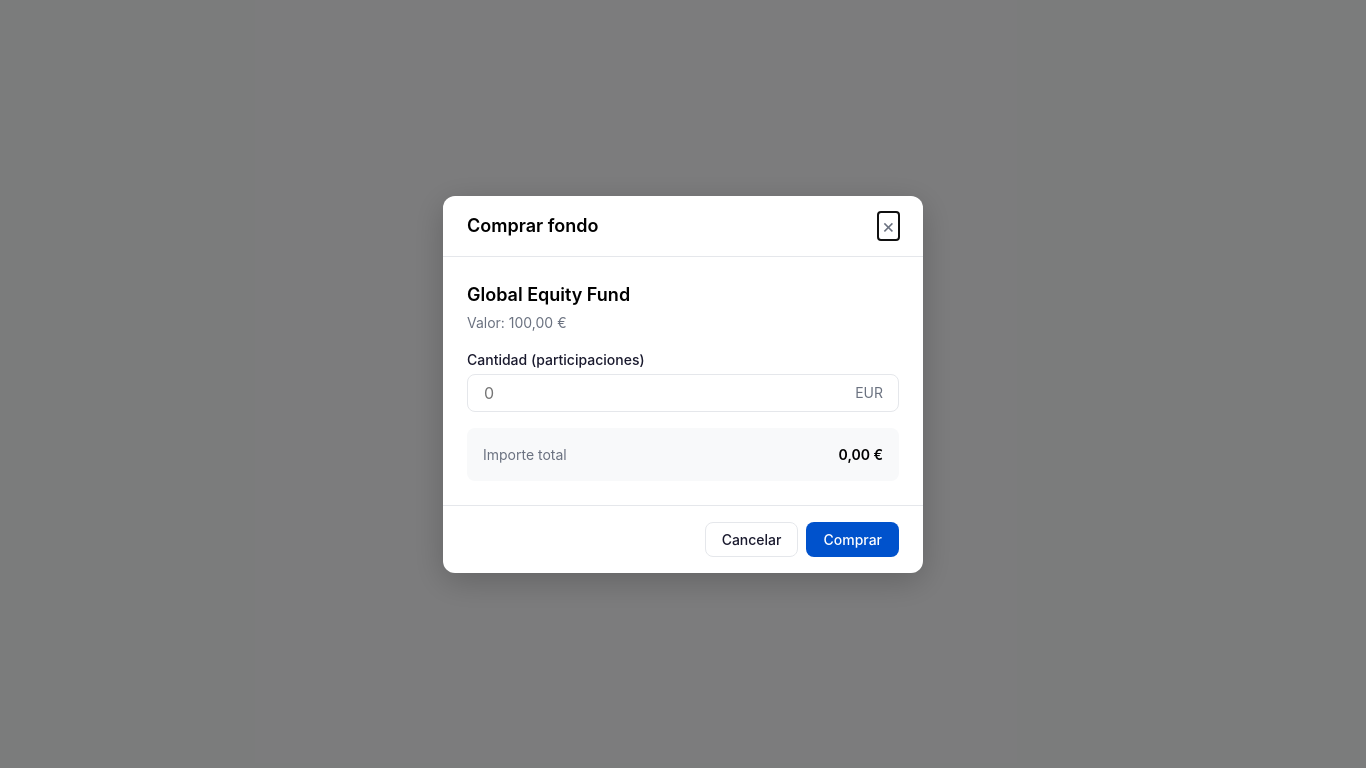
BuyFundModal › shows validation error for empty quantity on submit
This screenshot has width=1366, height=768.
What coordinates should you click on to do the following:
click the button "Comprar"
I would click on:
 (853, 539)
Its box is [806,522,899,556].
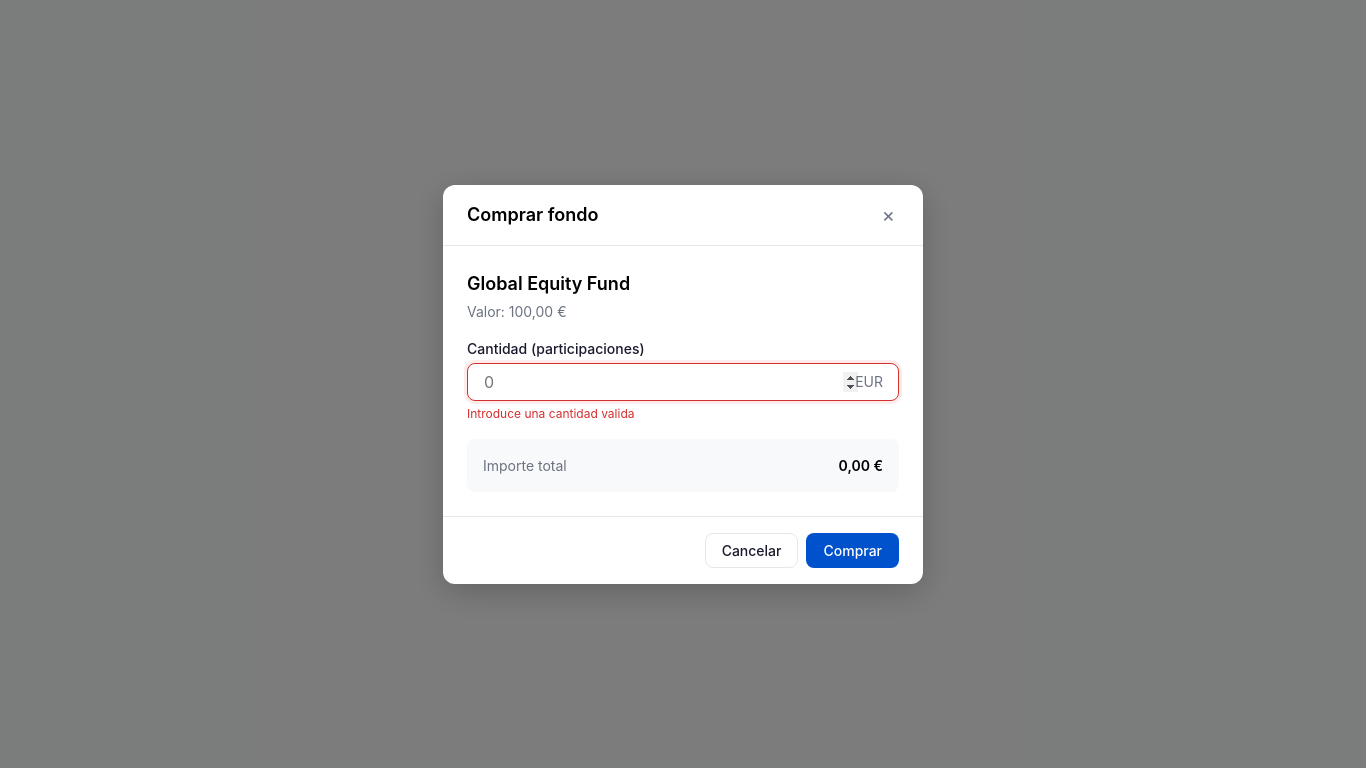
Now the text "Introduce una cantidad valida" is shown, box [467,406,634,420]
